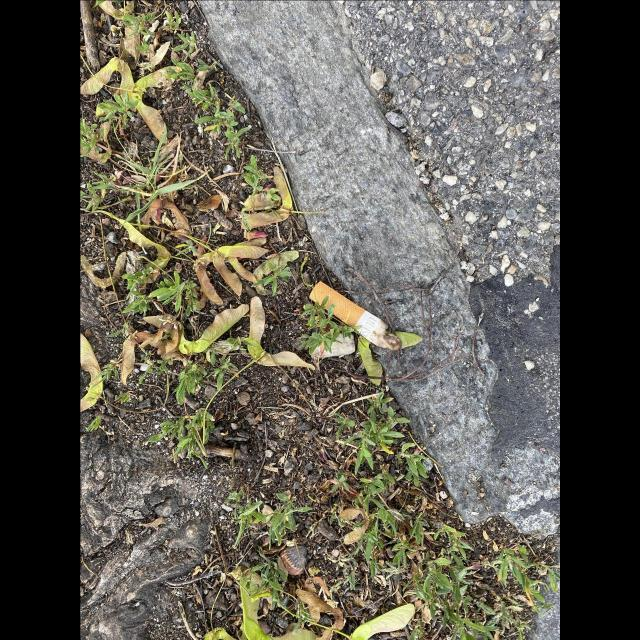cigarette: (309, 280, 403, 354)
